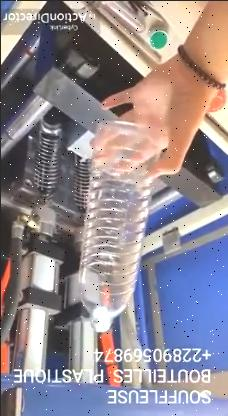Plastic Bottle: (76, 119, 164, 334)
